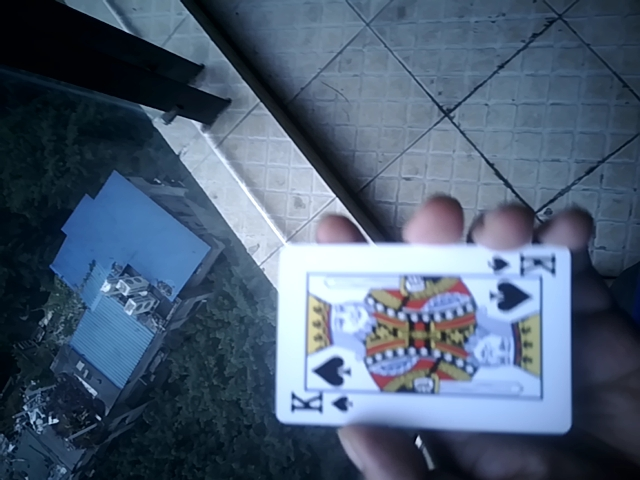ht k: (266, 241, 575, 433)
